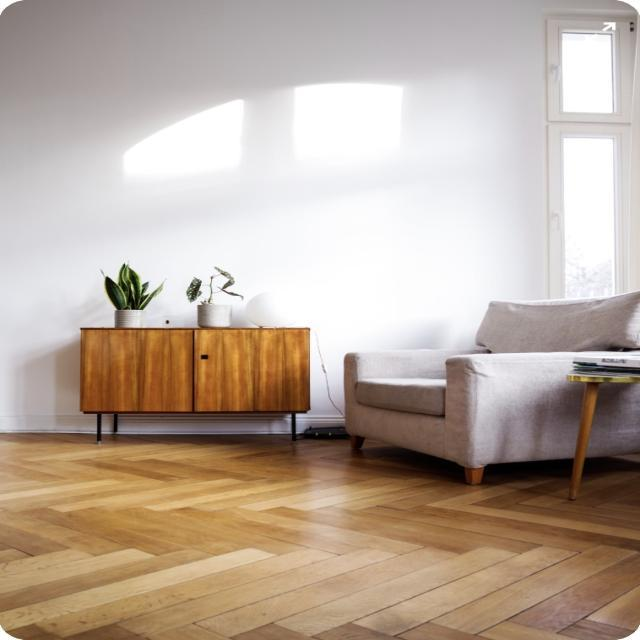cabinet: (68, 322, 319, 454)
potted plant: (99, 258, 160, 328), (186, 262, 246, 326)
sofa: (354, 301, 630, 487)
